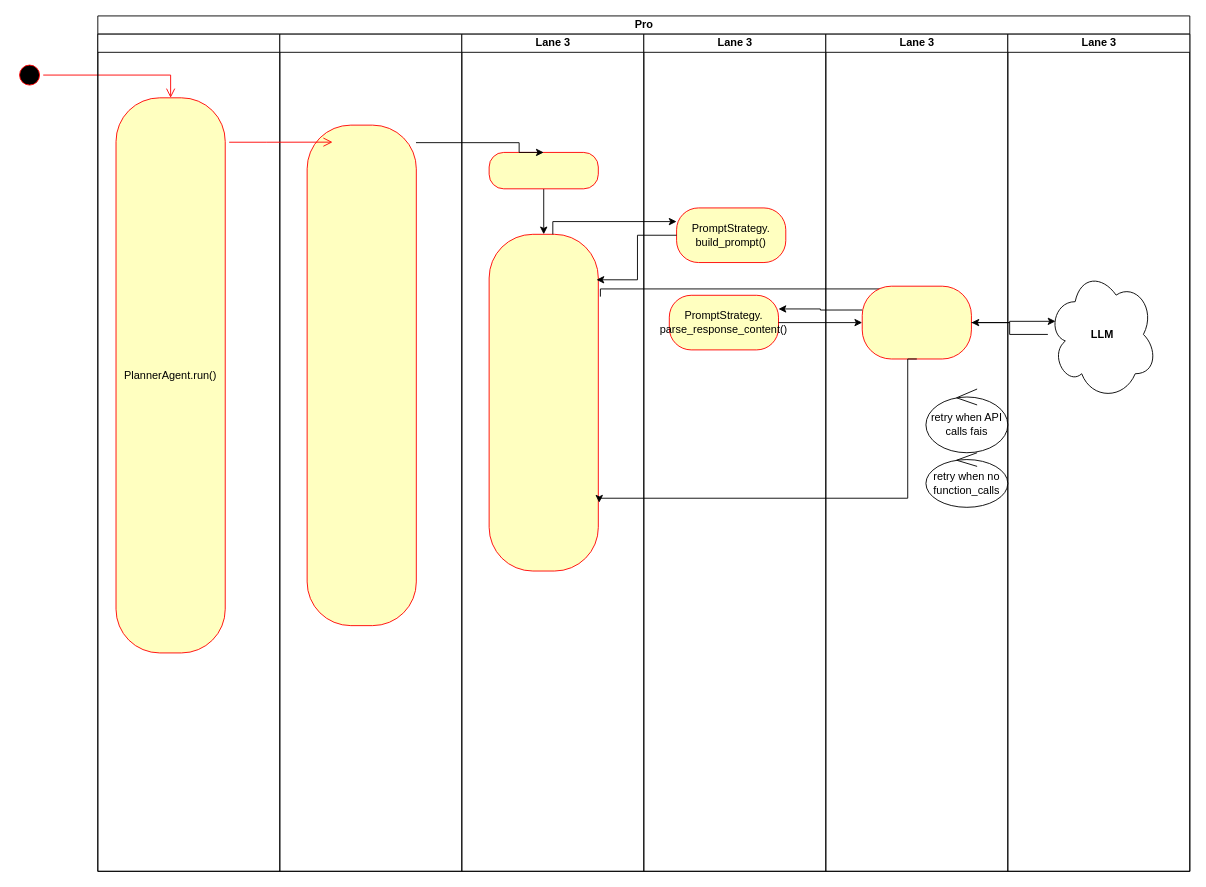
Some shapes in this 1206 by 887 pixel diagram are drawn without their labels. Here are the shapes that lost their labels. From the top down, the box of each, then its label:
(488, 152, 598, 189): PromptManager .execute()
(861, 285, 971, 359): OpenAIProvider. create_chat_completion()
(306, 124, 416, 626): PlannerLoop.run()
(488, 233, 598, 571): PromptManager .chat_with_model()
(97, 33, 280, 871): Lane 1
(279, 33, 462, 871): Lane 2
